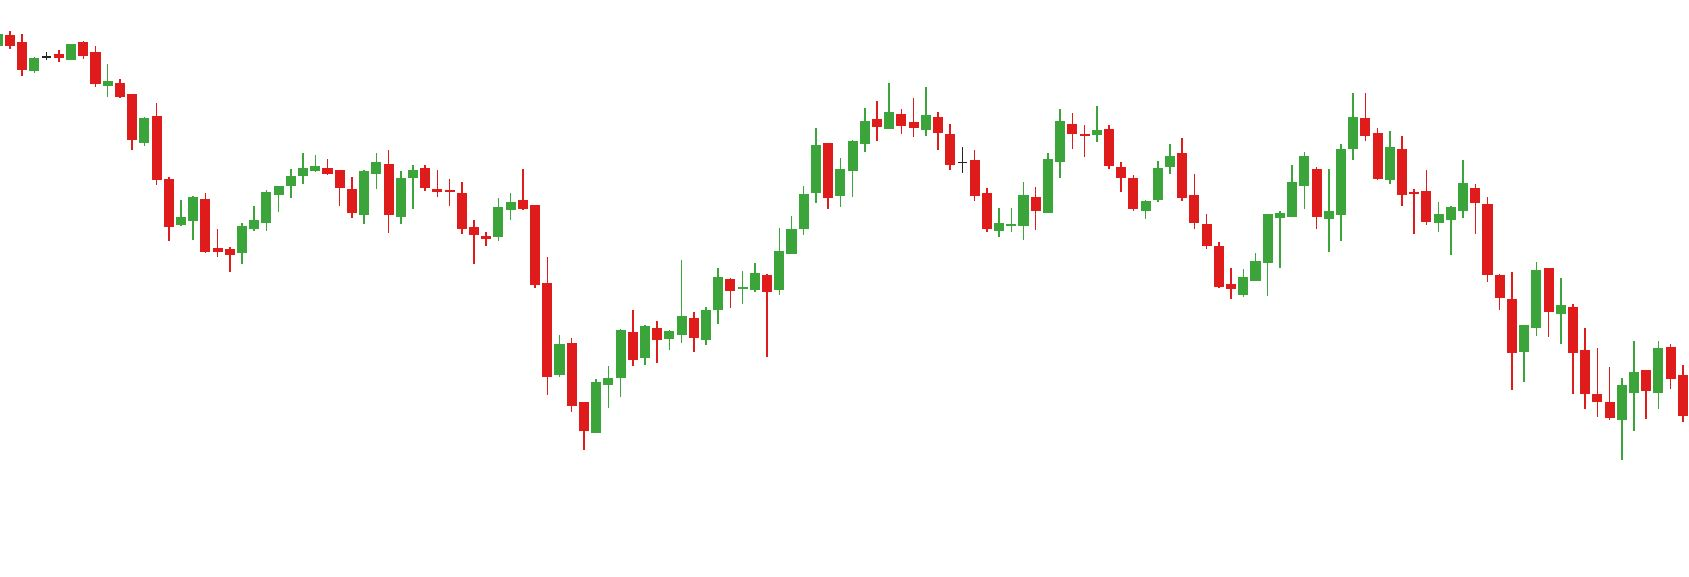sell: (1090, 92, 1369, 206), (456, 168, 528, 245)
